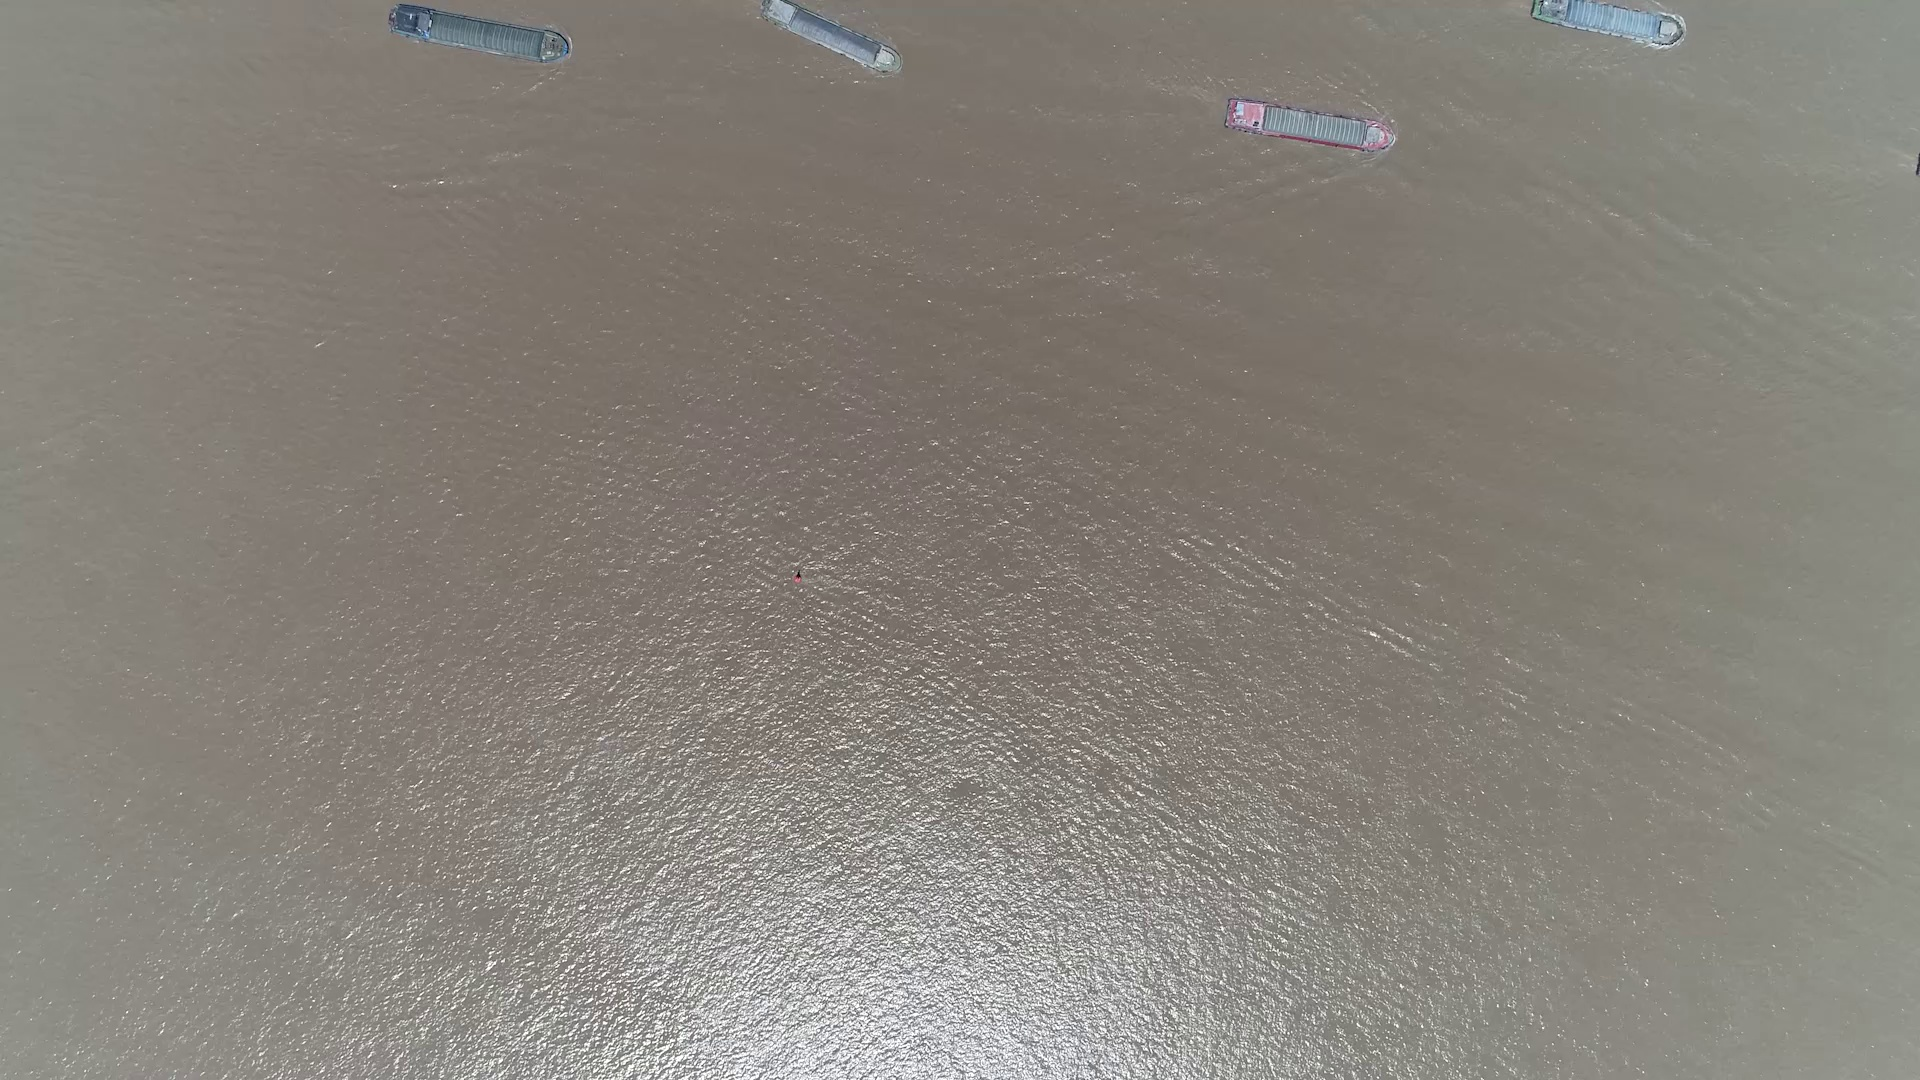ship: (389, 3, 570, 65), (760, 0, 899, 71), (1222, 102, 1396, 154), (1528, 0, 1684, 47)
